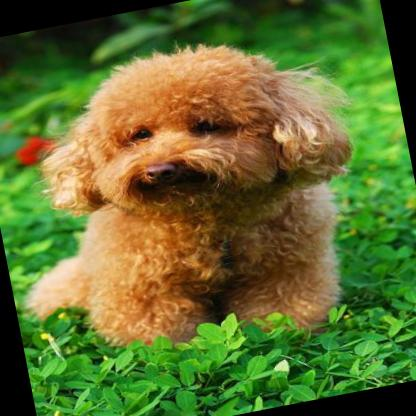toy_poodle: (0, 20, 387, 382)
